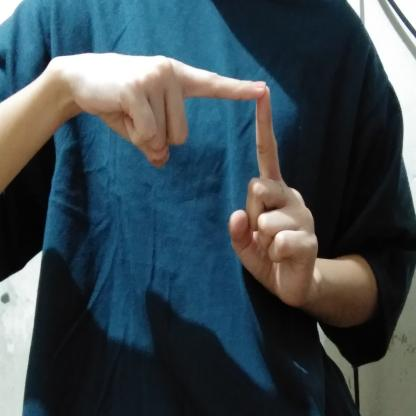when: (48, 43, 320, 314)
